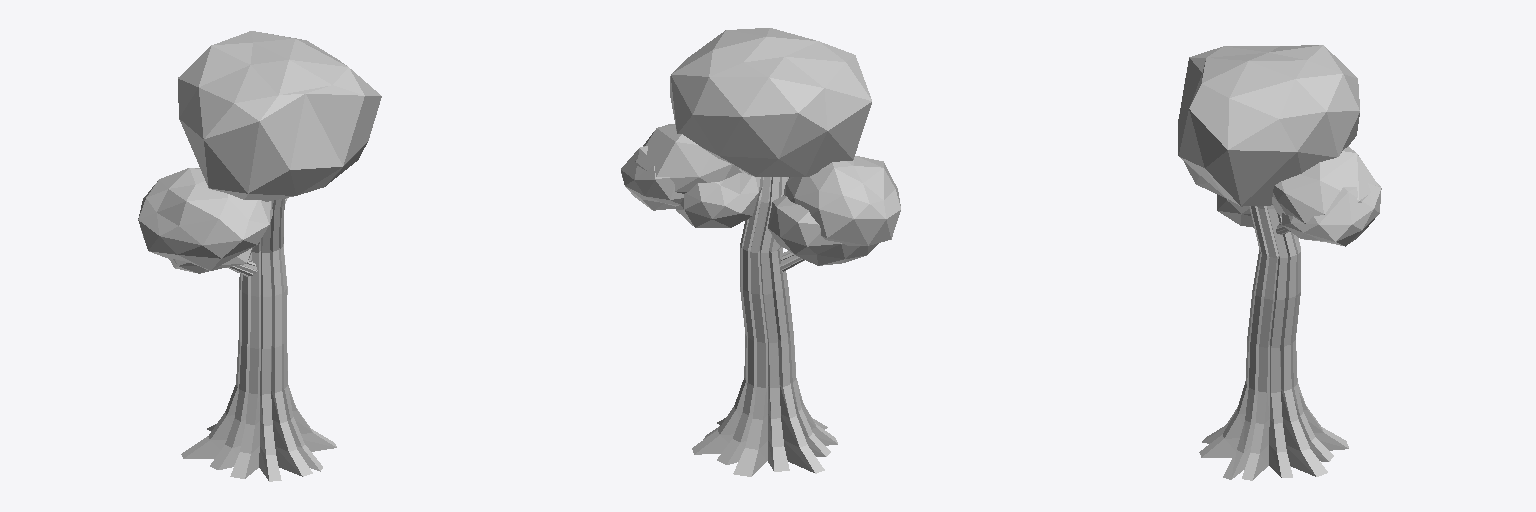
The model's file is Arvore 1.obj.
The picture shows the model from 3 angles: view 1: azimuth 30°, elevation 25°; view 2: azimuth 150°, elevation 25°; view 3: azimuth 270°, elevation 25°; orthographic projection.
Visible parts, largest first — view 1: Cylinder_Cylinder.001; view 2: Cylinder_Cylinder.001; view 3: Cylinder_Cylinder.001.
Boxes of the visible parts, <box> form: Cylinder_Cylinder.001: <box>138,31,381,481</box>; Cylinder_Cylinder.001: <box>621,28,900,476</box>; Cylinder_Cylinder.001: <box>1178,45,1381,480</box>.
Size of the model in its own units: 12.49 by 20.58 by 9.32.